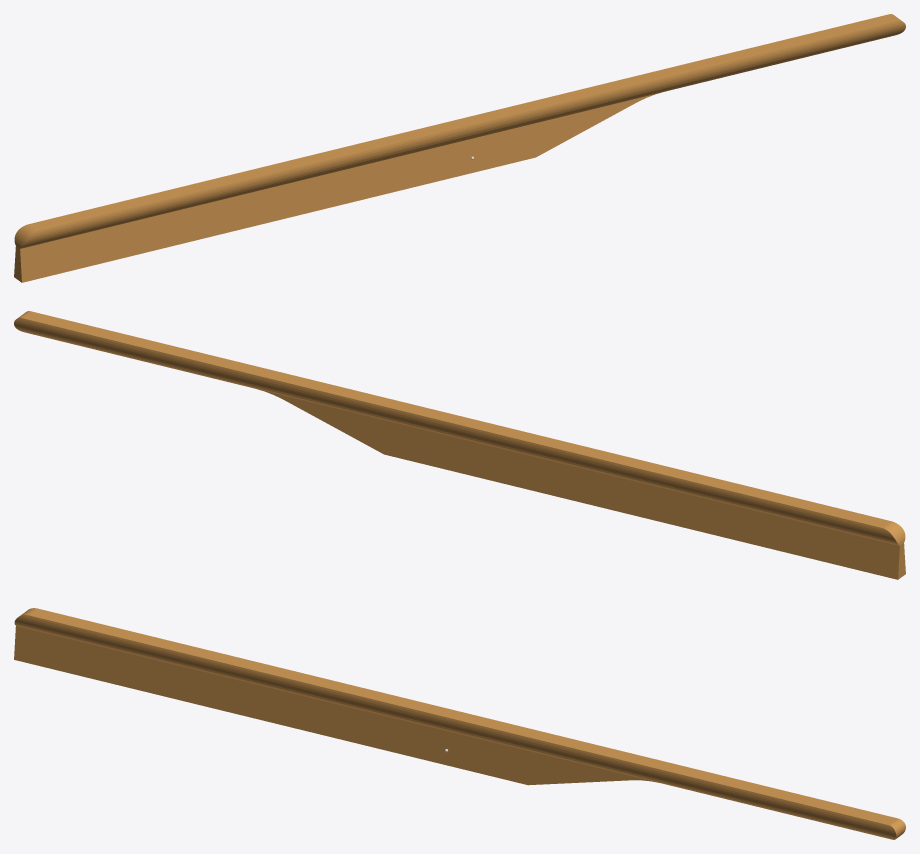
The model's file is 197 pvd gold.glb.
3 views of the same model, one above another, from view 1: azimuth 30°, elevation 25°; view 2: azimuth 150°, elevation 25°; view 3: azimuth 330°, elevation 25° (orthographic).
Parts seen in each view (by area): view 1: CABINET_HANDLE_197; view 2: CABINET_HANDLE_197; view 3: CABINET_HANDLE_197.
Boxes of the visible parts, box(x1,y1,x2,y2) form: CABINET_HANDLE_197: box(14, 14, 905, 282); CABINET_HANDLE_197: box(14, 311, 905, 579); CABINET_HANDLE_197: box(14, 608, 905, 839).
Bounding box in the file's own units: 17.72 × 0.9334 × 0.6563.
